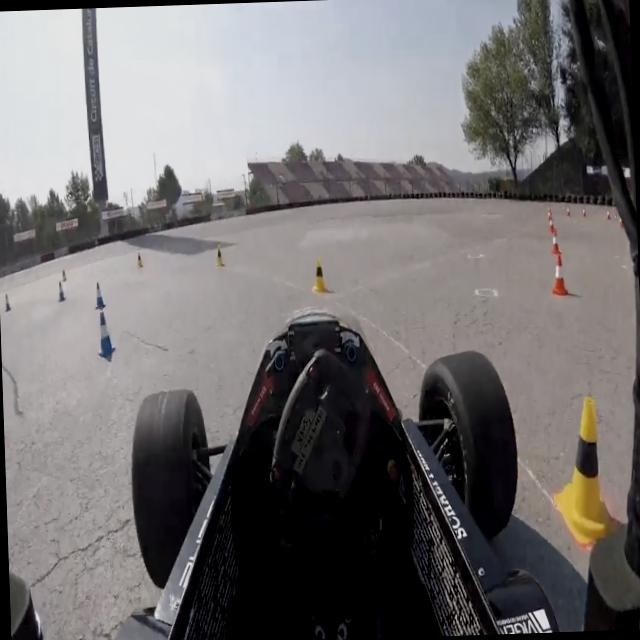blue_cone: (97, 308, 115, 359), (94, 282, 106, 310), (57, 279, 66, 303), (3, 292, 11, 312)
orange_cone: (551, 255, 569, 298), (548, 228, 562, 255), (546, 218, 556, 234), (548, 210, 552, 223), (566, 206, 570, 218), (582, 207, 586, 216)
yellow_cone: (552, 392, 618, 540), (310, 256, 330, 298), (215, 245, 223, 268), (136, 251, 144, 271), (62, 267, 68, 282)
